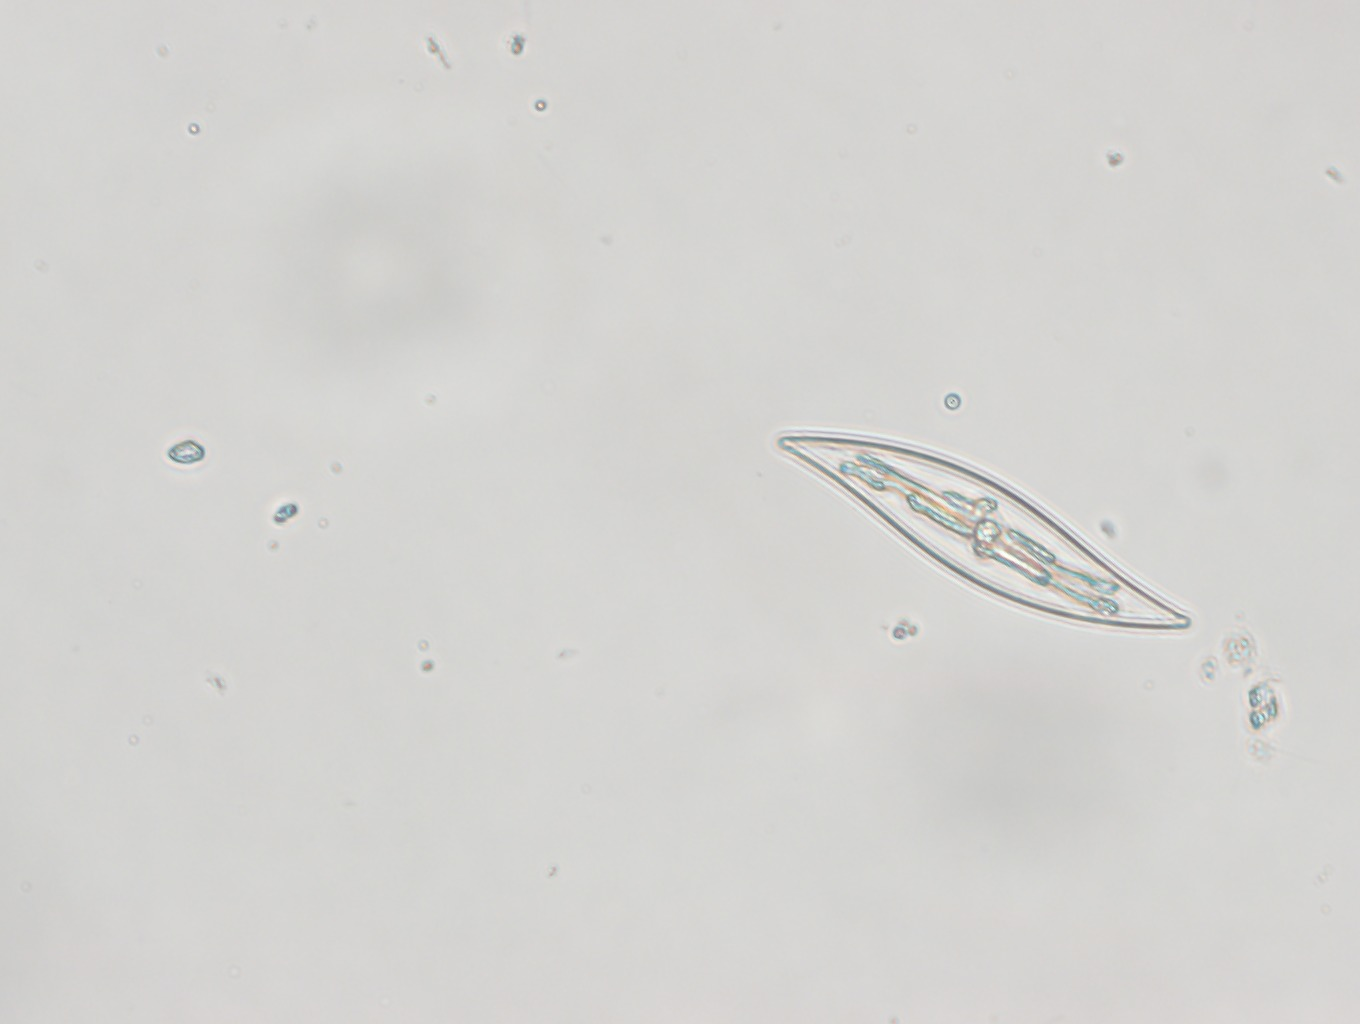pleurosigma pelagicum: (773, 425, 1191, 632)
